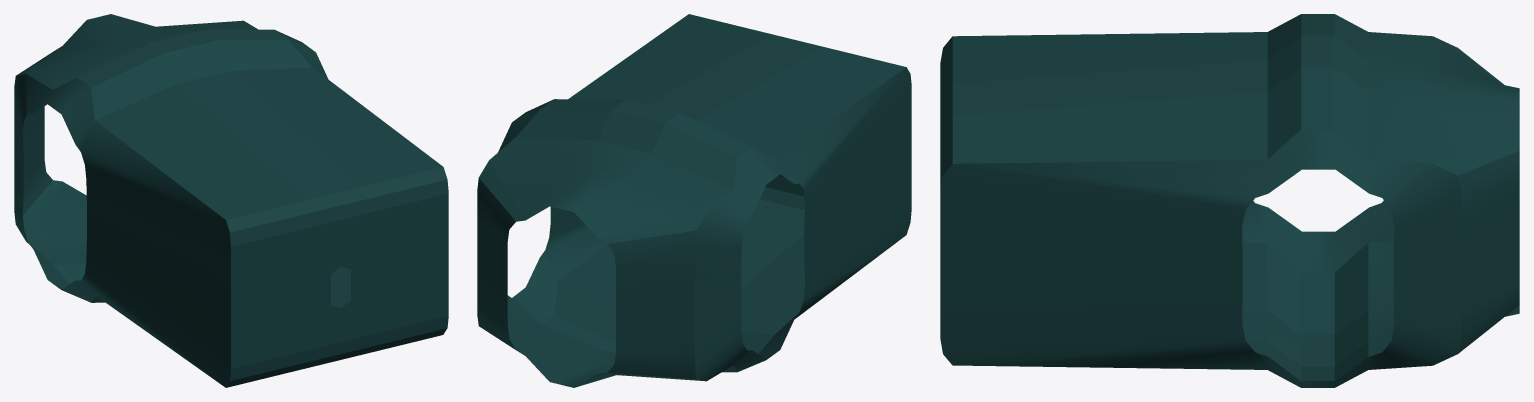
The model's file is OutsideExitVault.fbx.
3 renders of one model, left to right at view 1: azimuth 30°, elevation 25°; view 2: azimuth 150°, elevation 25°; view 3: azimuth 270°, elevation 25°, orthographic. The views are drawn at different scales.
Visible parts, largest first — view 1: OutsideExitVault; view 2: OutsideExitVault; view 3: OutsideExitVault.
Part boxes in pixels (x1,y1,x2,y2): OutsideExitVault: (14,14,448,387); OutsideExitVault: (477,14,911,387); OutsideExitVault: (940,14,1519,387).
Bounding box in the file's own units: 554 × 906 × 515.
